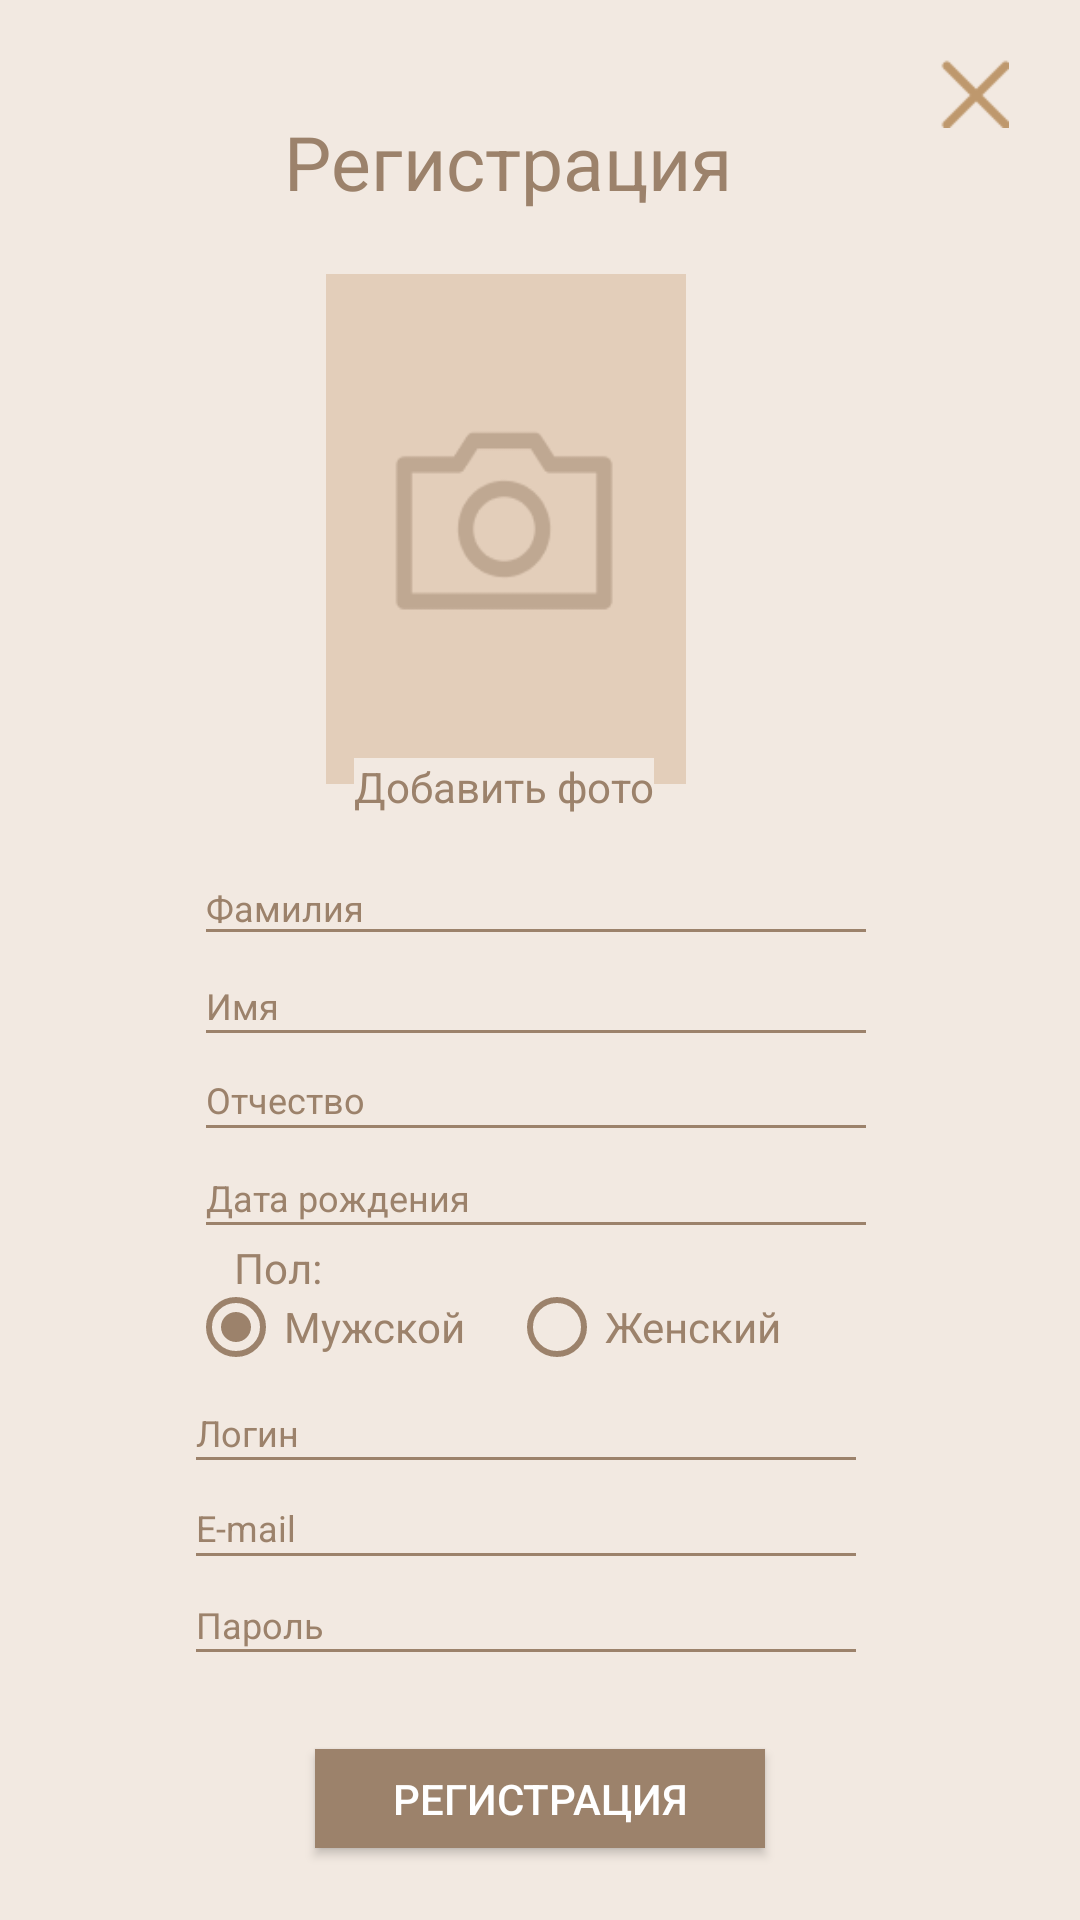

Icon bounding boxes for this 1080w x 1920h phone screenshot, format (x1, y1, x2, y2):
close: (942, 61, 1009, 128)
